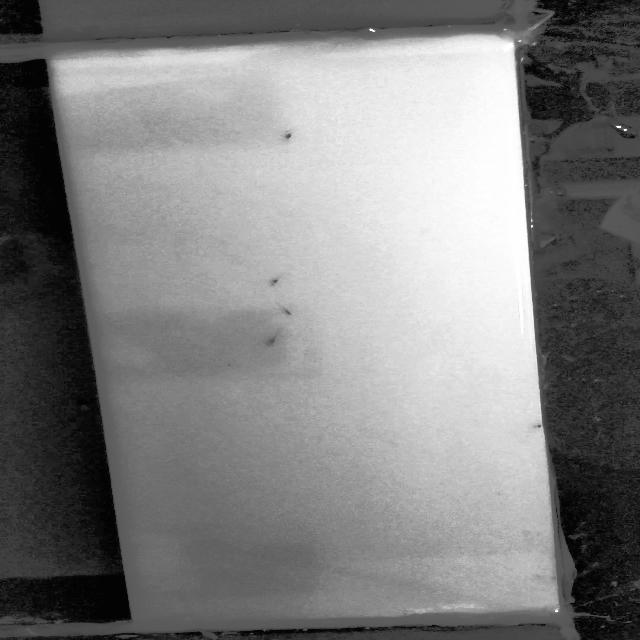shrimp: (272, 129, 308, 144), (271, 304, 301, 320), (260, 335, 288, 352), (259, 278, 289, 287)
